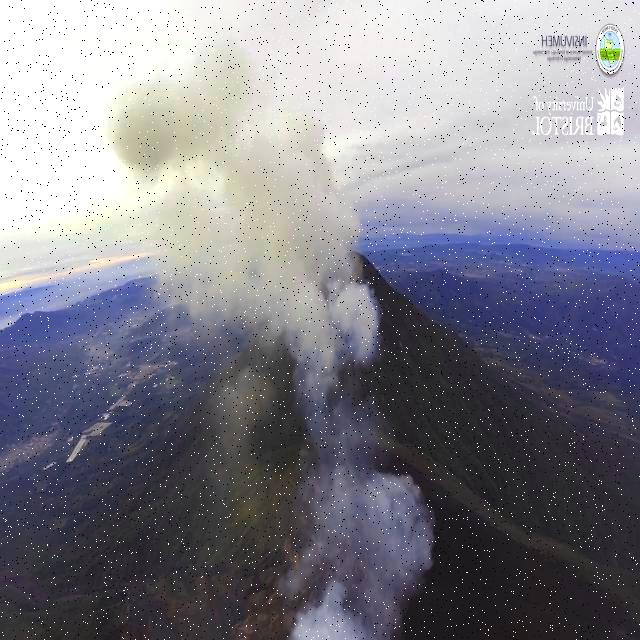Plume: (90, 16, 388, 377), (276, 446, 438, 640)
